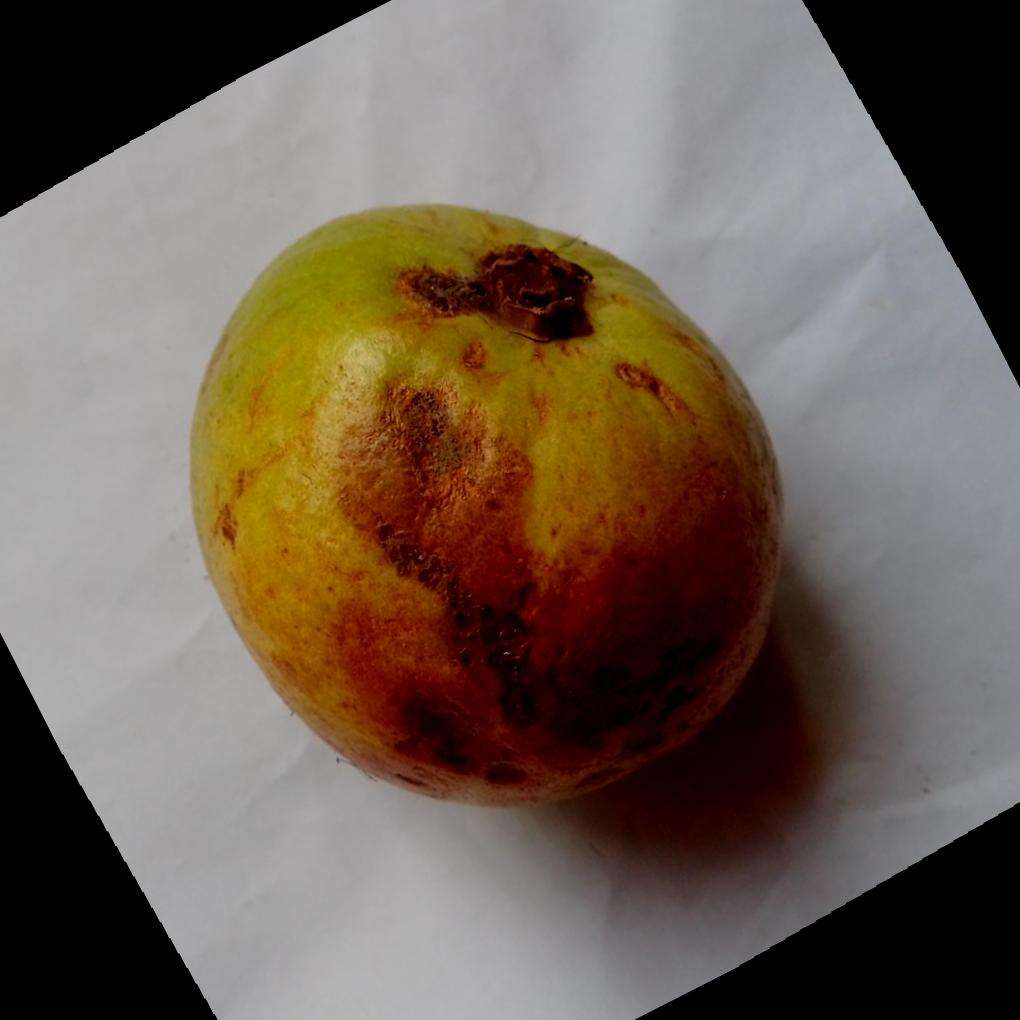FreshGuava: (190, 199, 789, 808)
